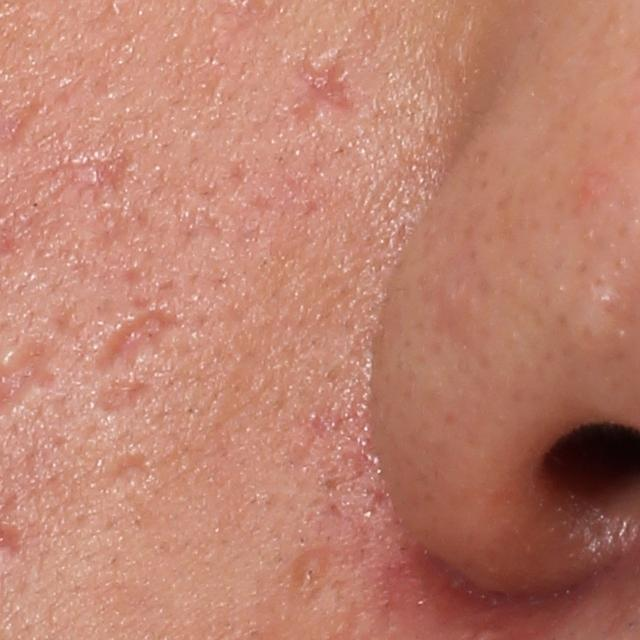atrophic_scar: (90, 307, 183, 380), (280, 54, 352, 125), (58, 150, 135, 192), (95, 378, 156, 413), (103, 453, 152, 489)
comedo: (290, 550, 324, 591)
